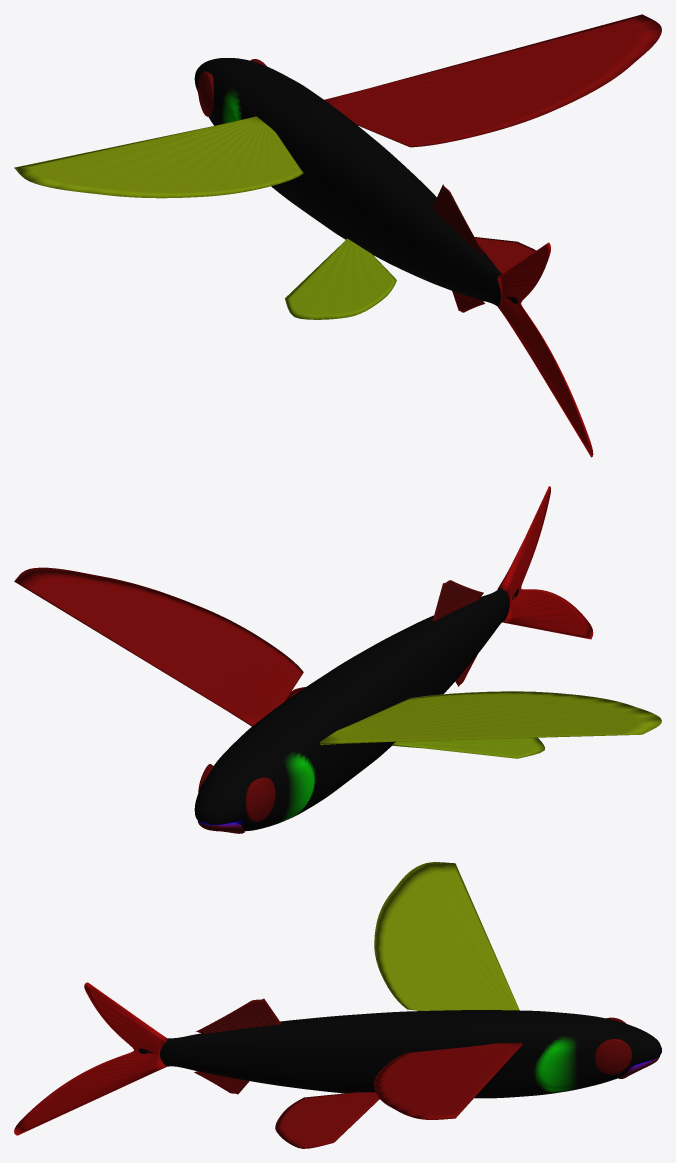
File: flying_fish.glb
3 renders of one model, top to bottom at view 1: azimuth 30°, elevation 25°; view 2: azimuth 150°, elevation 25°; view 3: azimuth 270°, elevation 25°, orthographic. The views are drawn at different scales.
Parts seen in each view (by area): view 1: flying_fish; view 2: flying_fish; view 3: flying_fish.
Boxes of the visible parts, x1,y1,x2,y2 form: flying_fish: (14,14,661,457); flying_fish: (14,486,661,833); flying_fish: (14,862,661,1148).
Size of the model in its own units: 0.2829 by 0.0786 by 0.3005.
